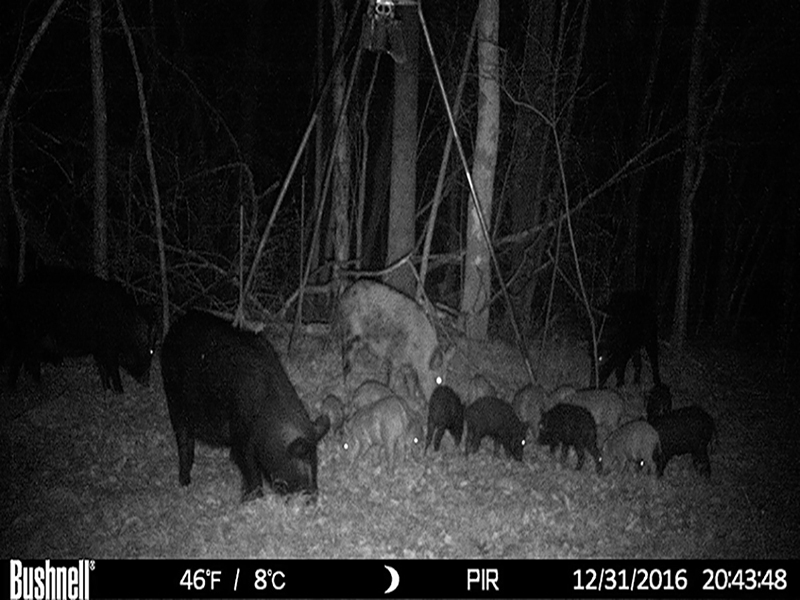cinghiale: (149, 308, 334, 512), (13, 265, 158, 394), (326, 284, 448, 394), (578, 287, 667, 390), (334, 392, 410, 467), (649, 407, 721, 473), (462, 392, 532, 457), (593, 415, 664, 479), (533, 400, 601, 466), (423, 378, 469, 460)
